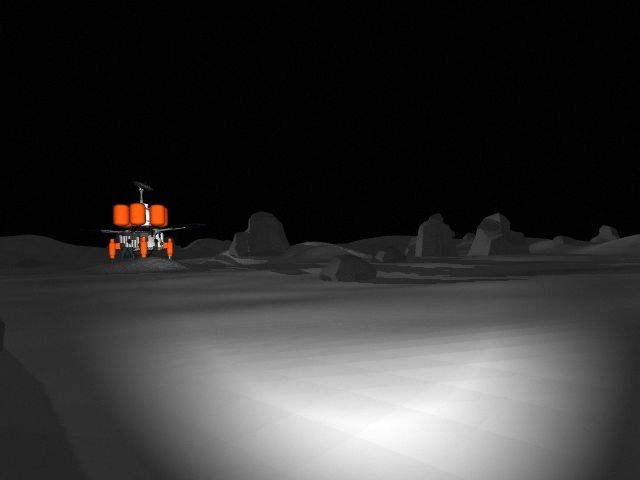homebase: (94, 178, 187, 264)
